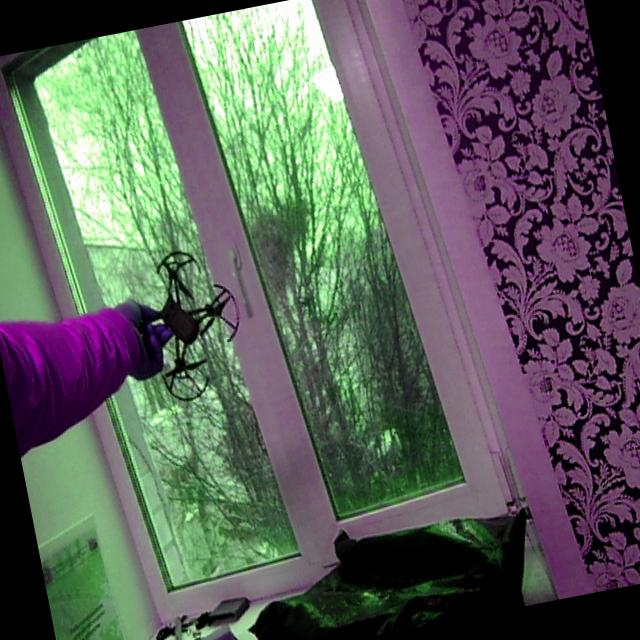drone: (114, 233, 264, 424)
